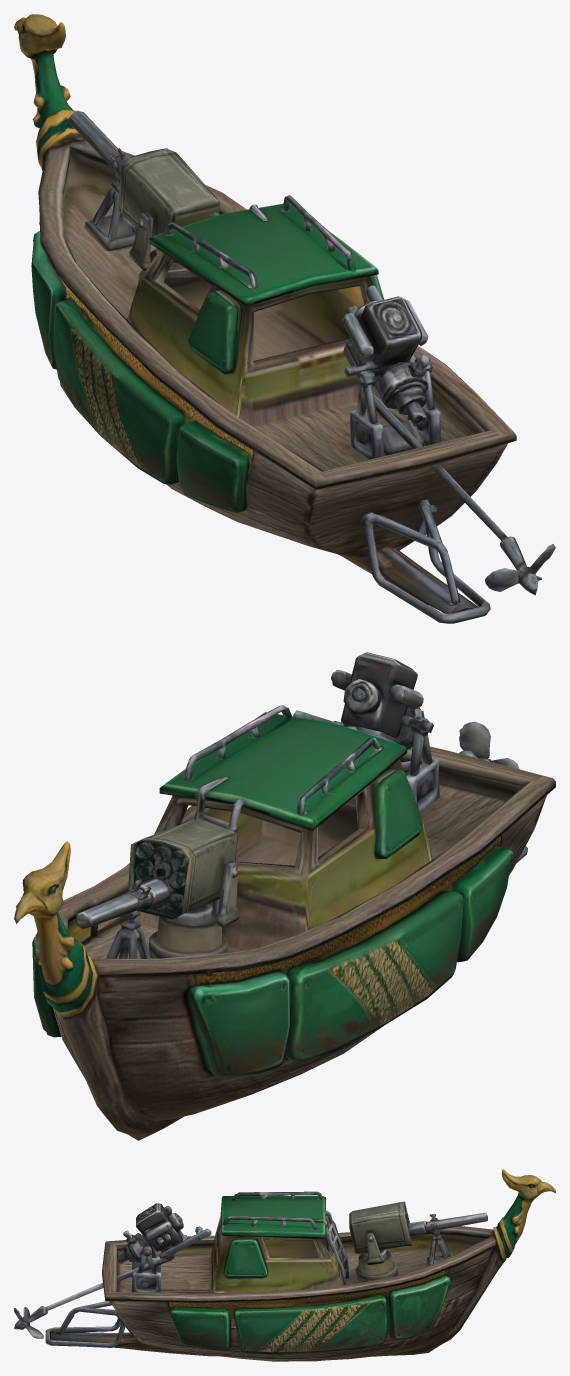
Rendered from longtail_raider.glb.
3 renders of one model, top to bottom at view 1: azimuth 30°, elevation 25°; view 2: azimuth 150°, elevation 25°; view 3: azimuth 270°, elevation 25°, orthographic. The views are drawn at different scales.
Parts seen in each view (by area): view 1: Body; view 2: Body; view 3: Body.
Boxes of the visible parts, x1,y1,x2,y2 form: Body: (14,14,555,623); Body: (14,652,555,1140); Body: (14,1169,555,1361).
Bounding box in the file's own units: 1.8 × 2.15 × 5.57.
2 materials, 2 textured.
